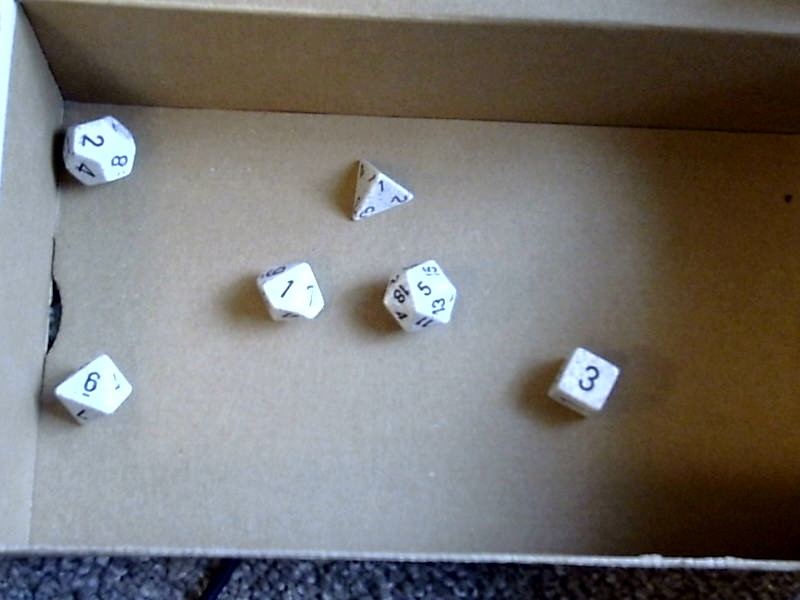d10 1: (251, 252, 334, 332)
d12 2: (57, 113, 141, 199)
d20 5: (377, 255, 463, 345)
d4 1: (340, 154, 415, 226)
d6 3: (541, 338, 627, 429)
d8 6: (45, 347, 143, 445)
